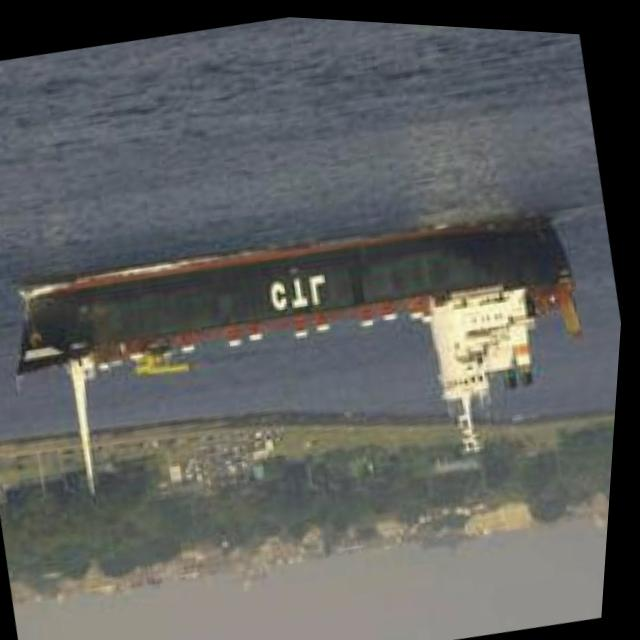ship2: (21, 206, 587, 507)
